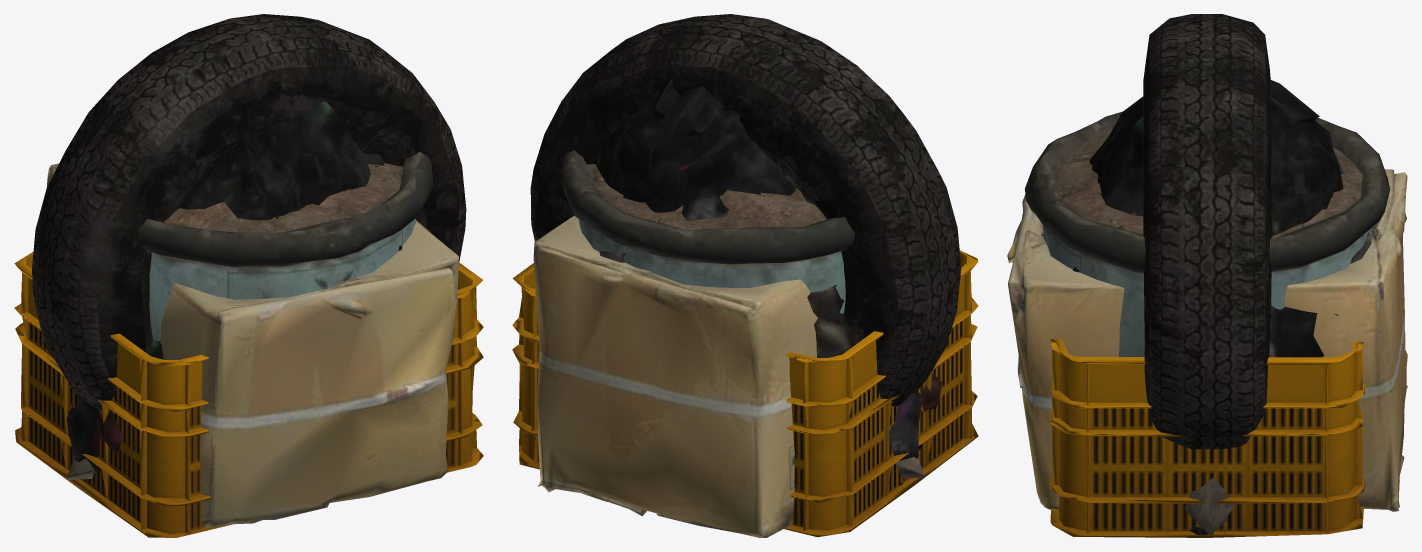
File: clutter.glb
3 renders of one model, left to right at view 1: azimuth 30°, elevation 25°; view 2: azimuth 150°, elevation 25°; view 3: azimuth 270°, elevation 25°, orthographic.
Parts seen in each view (by area): view 1: tyre, box, crate, bag2, bag; view 2: box, tyre, crate, bag2, bag; view 3: tyre, crate, box, bag2, bag.
Part boxes in pixels (x1,y1,x2,y2): tyre: [32, 14, 466, 410]; box: [46, 163, 458, 527]; crate: [14, 251, 483, 537]; bag2: [67, 151, 433, 479]; bag: [66, 101, 402, 479]; box: [533, 215, 817, 537]; tyre: [530, 14, 961, 406]; crate: [512, 250, 978, 537]; bag2: [561, 150, 924, 478]; bag: [595, 79, 942, 485]; tyre: [1143, 14, 1271, 449]; crate: [1050, 338, 1364, 537]; box: [1007, 169, 1407, 511]; bag2: [1025, 111, 1390, 535]; bag: [1073, 79, 1371, 534].
Size of the model in its own units: 0.6 by 0.6 by 0.5159.
5 materials, 5 textured.
